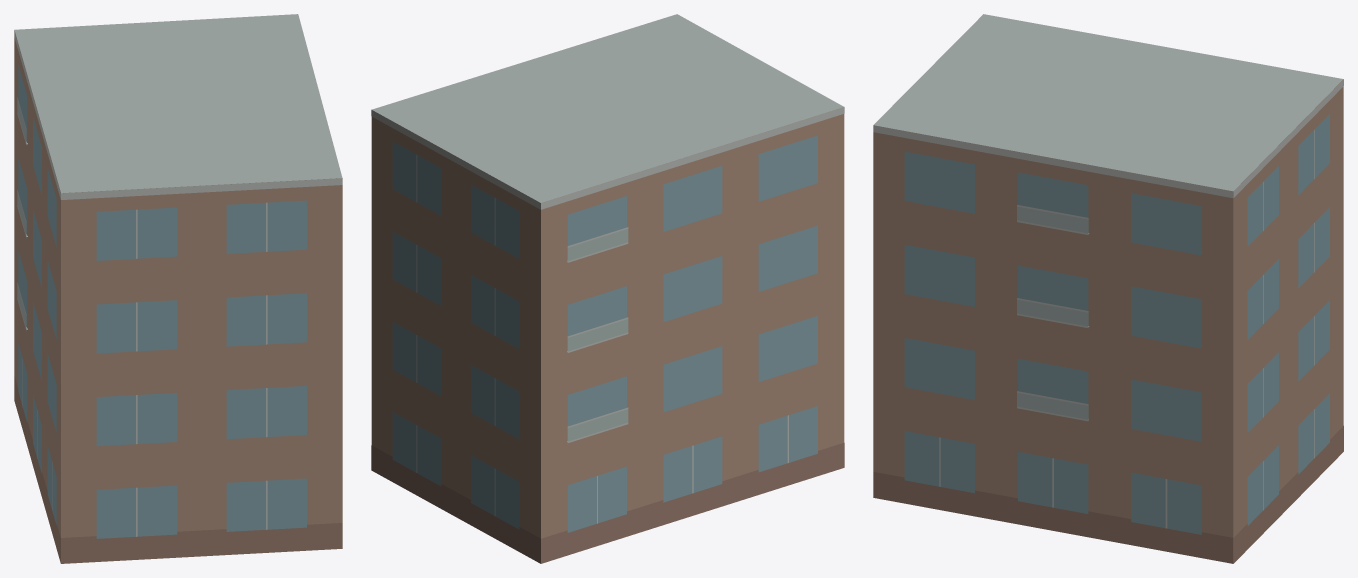
Rendered from survey-upis-32566007.glb.
The picture shows the model from 3 angles, left to right: view 1: azimuth 30°, elevation 25°; view 2: azimuth 150°, elevation 25°; view 3: azimuth 270°, elevation 25°; orthographic projection. The views are drawn at different scales.
Parts seen in each view (by area): view 1: survey-upis-32566007.tmp; view 2: survey-upis-32566007.tmp; view 3: survey-upis-32566007.tmp.
Part boxes in pixels (x1,y1,x2,y2): survey-upis-32566007.tmp: (14,14,342,563); survey-upis-32566007.tmp: (371,14,844,563); survey-upis-32566007.tmp: (873,14,1343,563).
Bounding box in the file's own units: 13.33 × 13.05 × 14.95.
